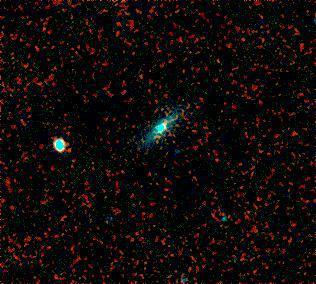star: (192, 76, 222, 106)
